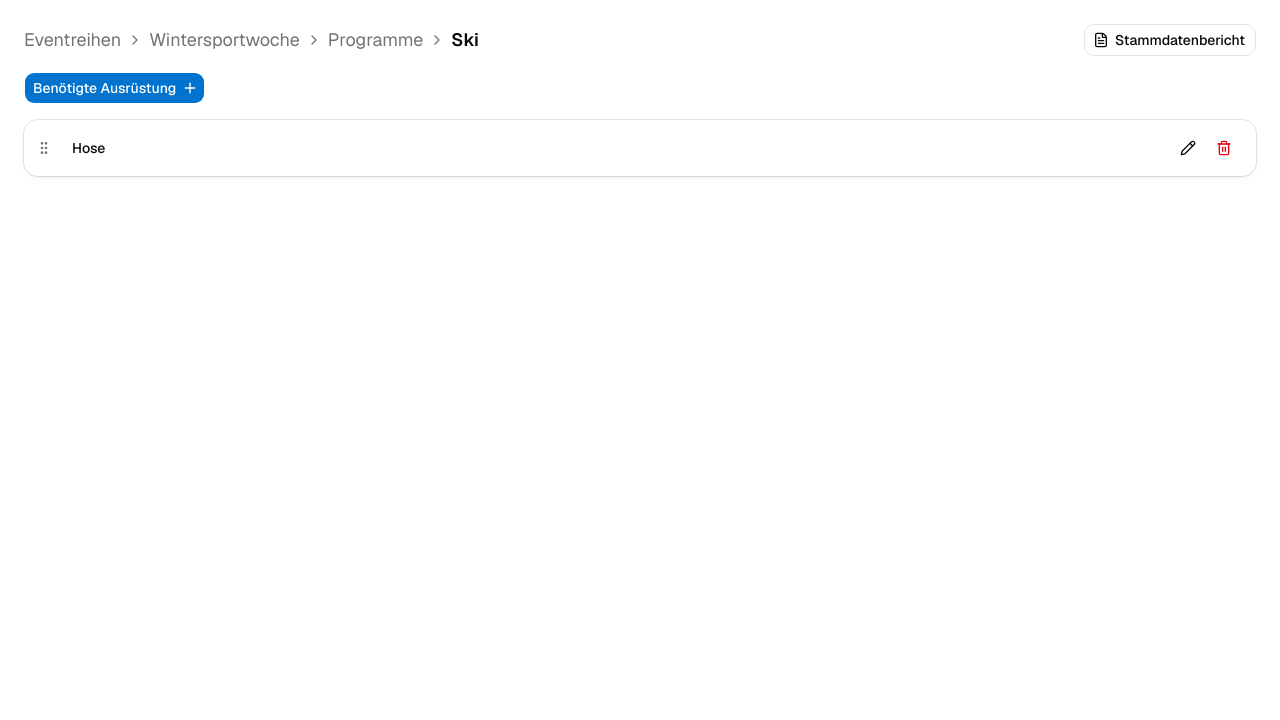
ProgramEquipmentView › opens an existing item on the side it stands
Click the button named "Ausrüstungsgegenstand Hose bearbeiten". click: click(1188, 148)
box: [1172, 132, 1204, 164]
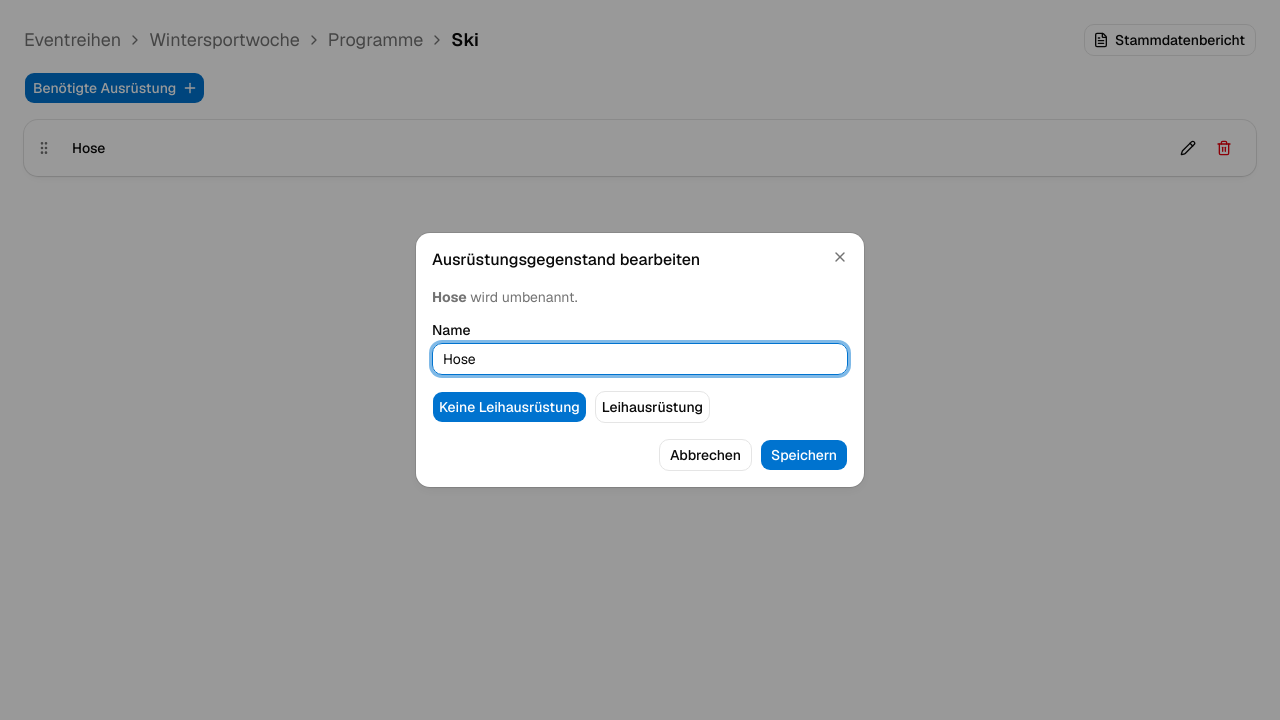
Result: the radio button labelled "Keine Leihausrüstung" is checked at [432, 391, 587, 423]
